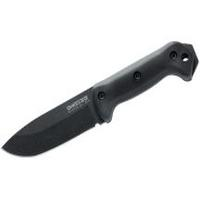knife: (1, 44, 194, 160)
